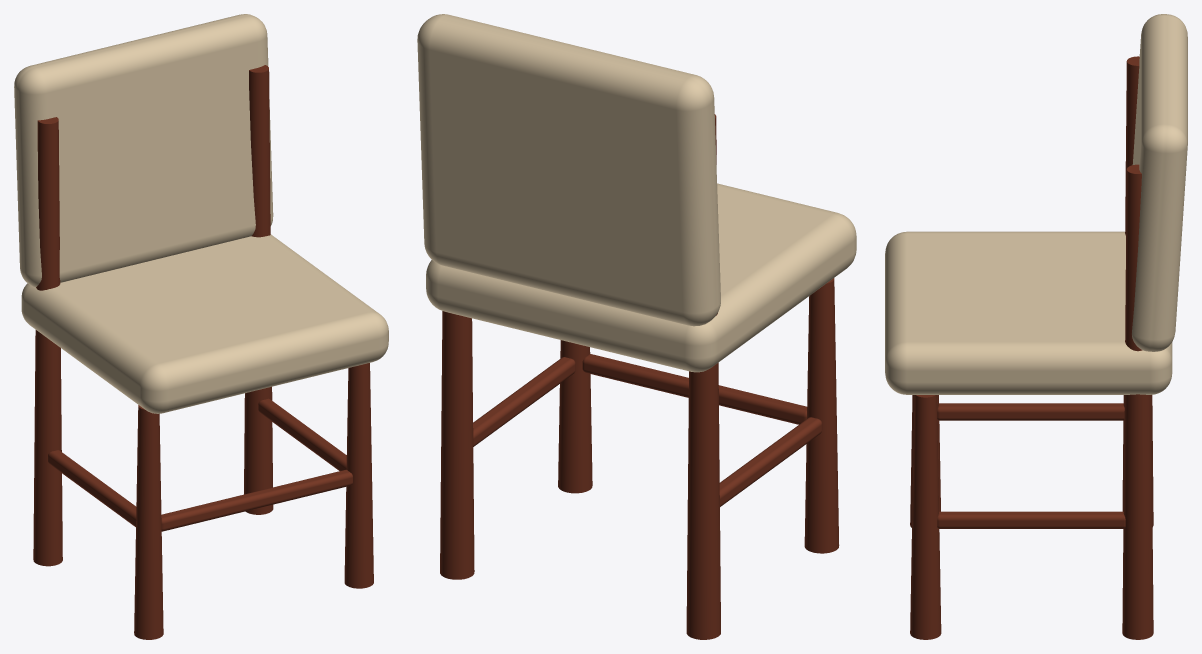
File: silla.glb
3 renders of one model, left to right at view 1: azimuth 30°, elevation 25°; view 2: azimuth 150°, elevation 25°; view 3: azimuth 270°, elevation 25°, orthographic. The views are drawn at different scales.
Visible parts, largest first — view 1: Espaldar tapizado, Asiento tapizado, Pata trasera (×2), Pata delantera (×2), Travesaño frontal, Travesaño lateral izquierdo, Travesaño lateral derecho; view 2: Espaldar tapizado, Asiento tapizado, Pata trasera (×2), Pata delantera (×2), Travesaño frontal, Travesaño lateral izquierdo, Travesaño lateral derecho; view 3: Asiento tapizado, Espaldar tapizado, Pata trasera (×2), Pata delantera (×2), Travesaño lateral derecho, Travesaño lateral izquierdo.
Boxes of the visible parts, bbox=[...] form: Espaldar tapizado: bbox=[14, 14, 273, 287]; Asiento tapizado: bbox=[21, 234, 388, 413]; Pata trasera (×2): bbox=[33, 65, 273, 566]; Pata delantera (×2): bbox=[134, 363, 373, 639]; Travesaño frontal: bbox=[161, 469, 352, 531]; Travesaño lateral izquierdo: bbox=[48, 450, 136, 526]; Travesaño lateral derecho: bbox=[258, 398, 346, 470]; Espaldar tapizado: bbox=[417, 14, 720, 326]; Asiento tapizado: bbox=[426, 183, 856, 372]; Pata trasera (×2): bbox=[440, 114, 720, 639]; Pata delantera (×2): bbox=[558, 278, 839, 553]; Travesaño frontal: bbox=[582, 354, 806, 424]; Travesaño lateral izquierdo: bbox=[719, 417, 822, 506]; Travesaño lateral derecho: bbox=[473, 357, 575, 446]; Asiento tapizado: bbox=[885, 231, 1172, 394]; Espaldar tapizado: bbox=[1132, 14, 1187, 351]; Pata trasera (×2): bbox=[1122, 56, 1153, 639]; Pata delantera (×2): bbox=[910, 395, 941, 639]; Travesaño lateral derecho: bbox=[937, 511, 1125, 528]; Travesaño lateral izquierdo: bbox=[937, 403, 1124, 420].
Size of the model in its own units: 0.48 by 0.8998 by 0.4848.
